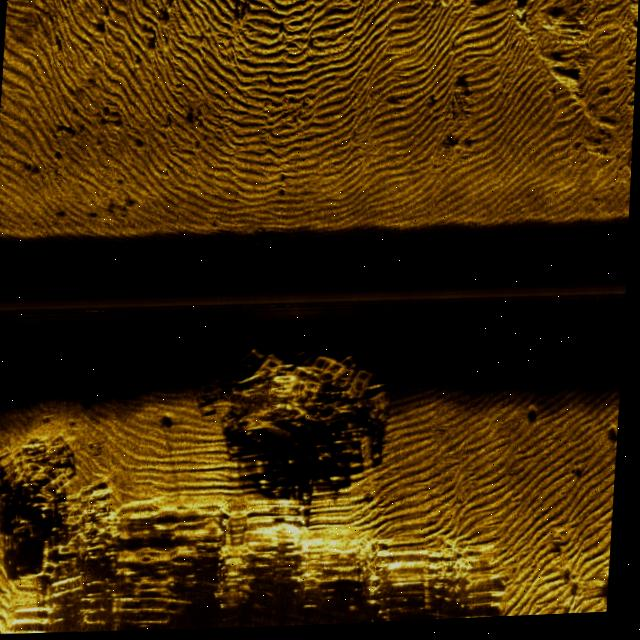artificial reef: (167, 343, 390, 470), (0, 436, 116, 555), (182, 234, 320, 293)
